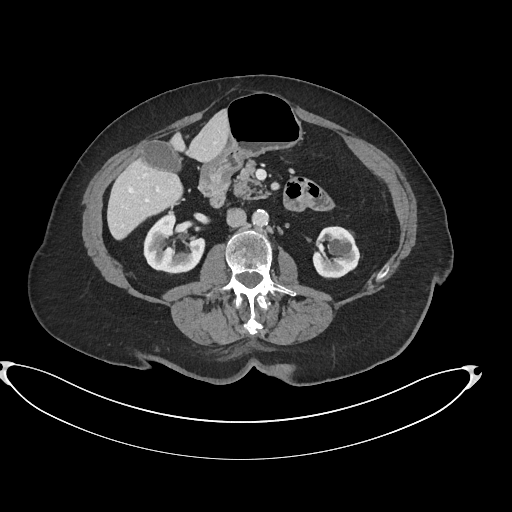Lesion: (323, 234, 357, 260)
